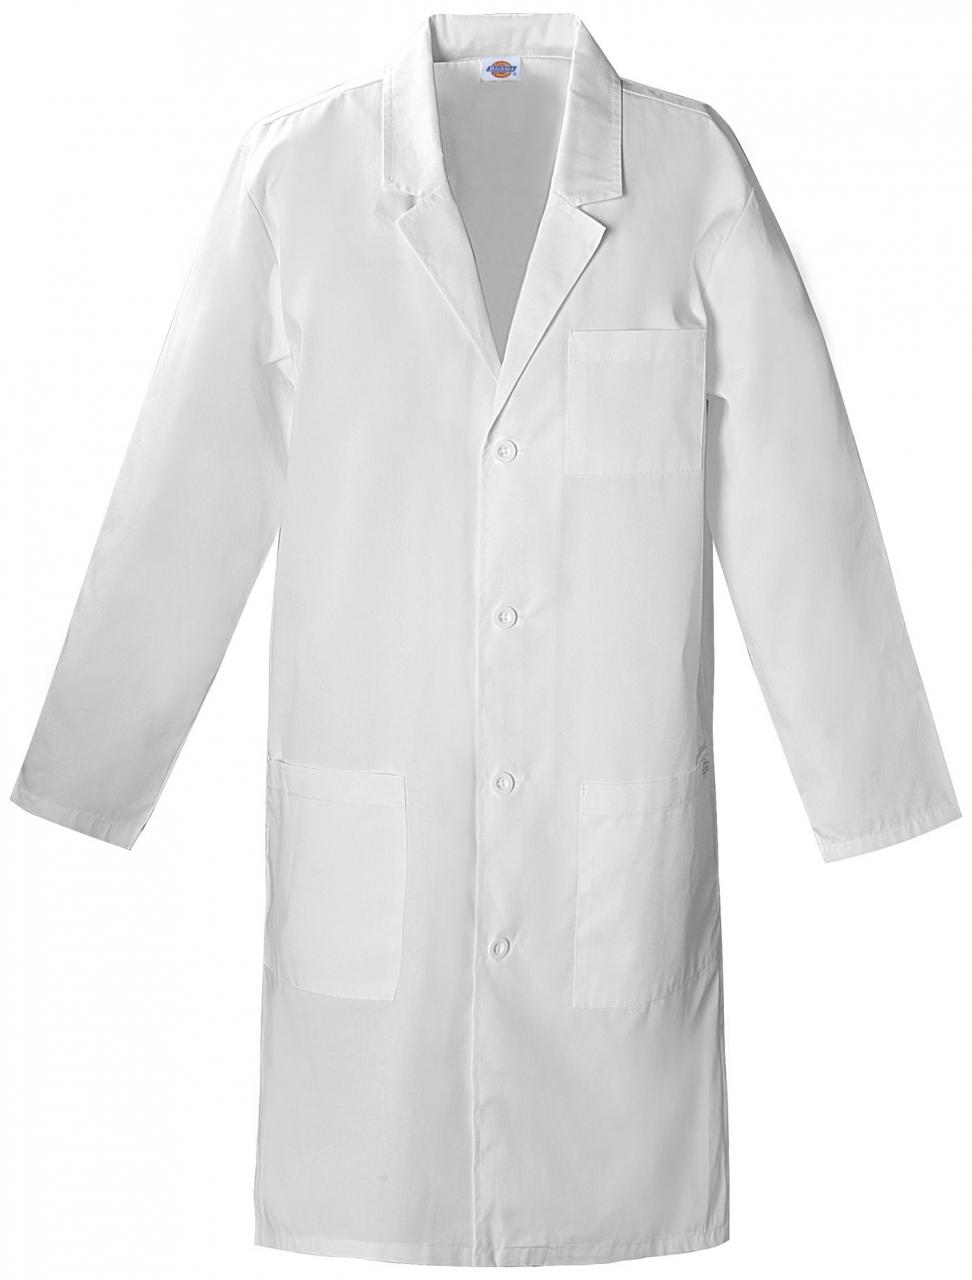lab_coat: (7, 10, 960, 1264)
